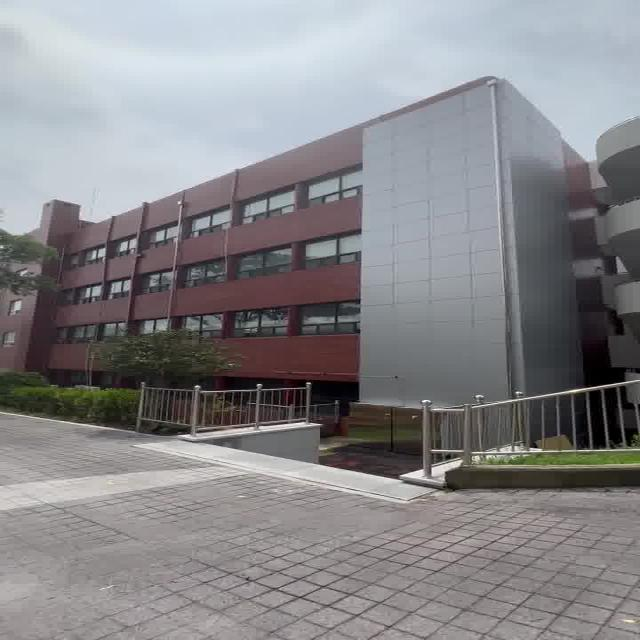building: (32, 101, 580, 351)
